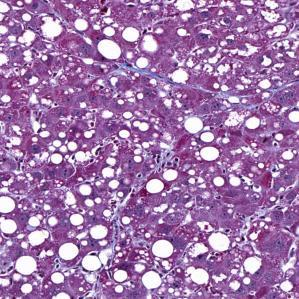fibrosis: (124, 59, 167, 82)
